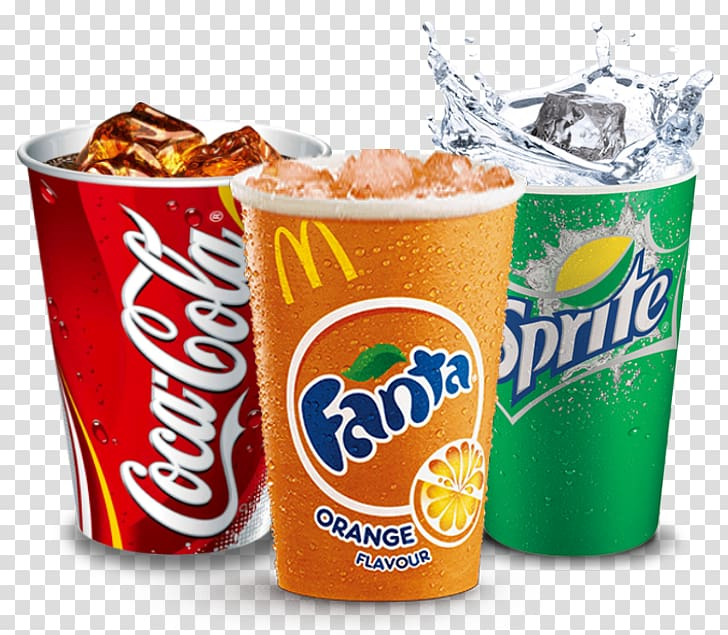Coca-Cola: (14, 114, 270, 569)
Fanta: (236, 155, 503, 602)
Sprite: (496, 121, 684, 565)
